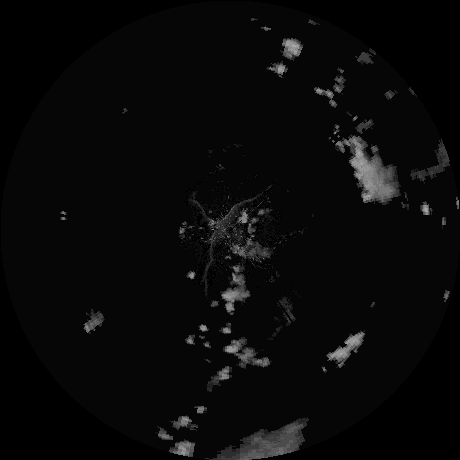frontgust: (204, 193, 260, 277)
